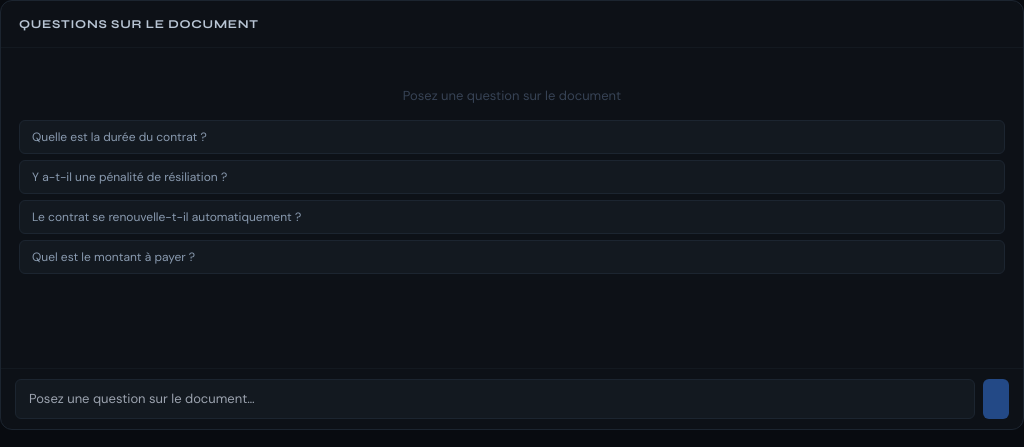
QAChat › affiche un message d'erreur si l'API échoue
Type "Question test" into the field with placeholder "Posez une question sur le document…" at [495, 399], box [15,379,975,418]
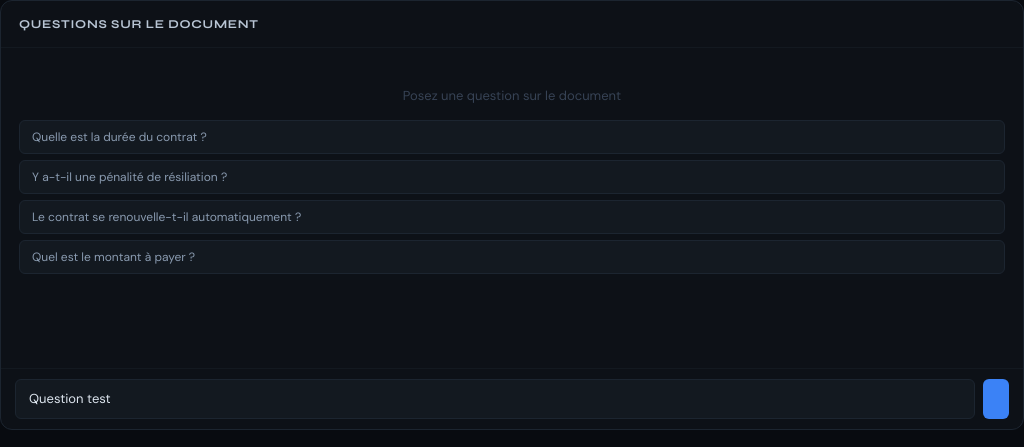
Press Enter in the field with placeholder "Posez une question sur le document…", box [15,379,975,418]
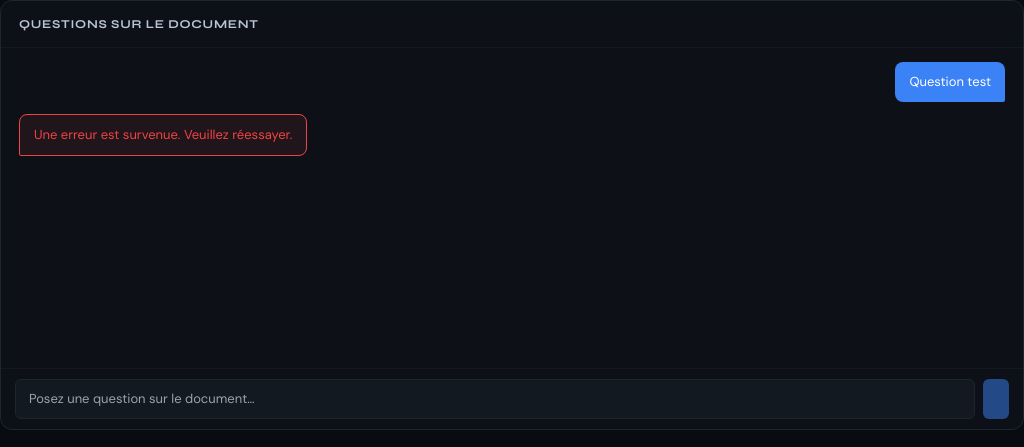
Check: the text "Une erreur est survenue. Veuillez réessayer." is shown, box [19,114,307,156]
